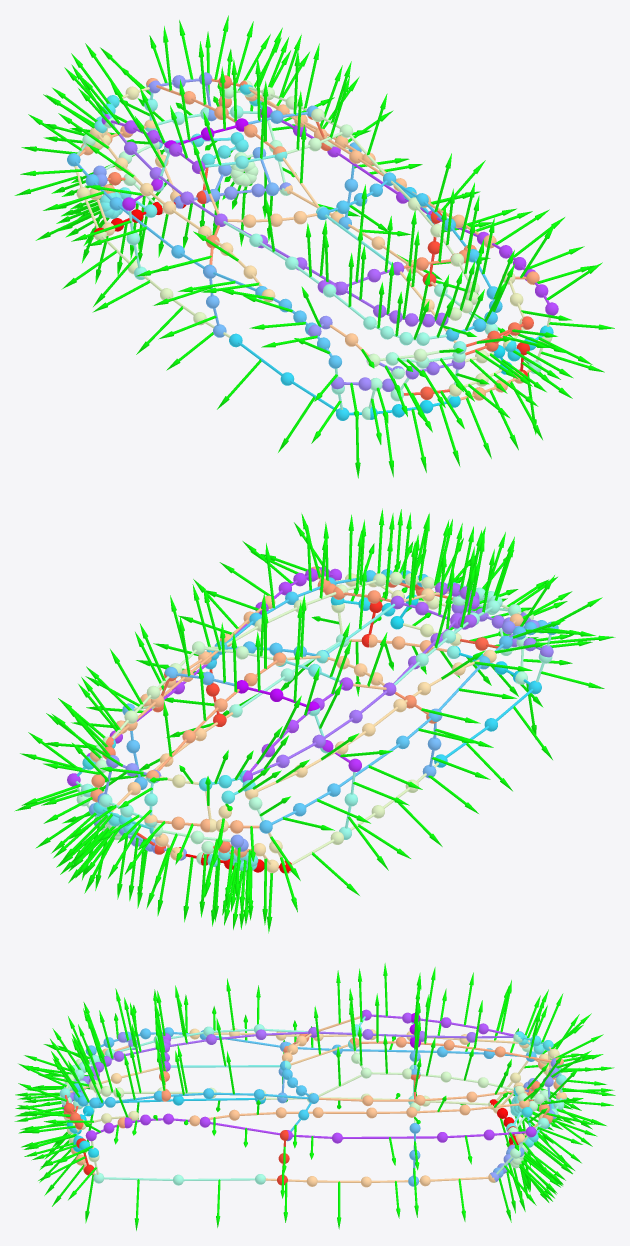
The model's file is ils_car1.gltf.
3 renders of one model, top to bottom at view 1: azimuth 30°, elevation 25°; view 2: azimuth 150°, elevation 25°; view 3: azimuth 270°, elevation 25°, orthographic. The views are drawn at different scales.
Bounding box in the file's own units: 0.5783 × 0.3955 × 1.09.
